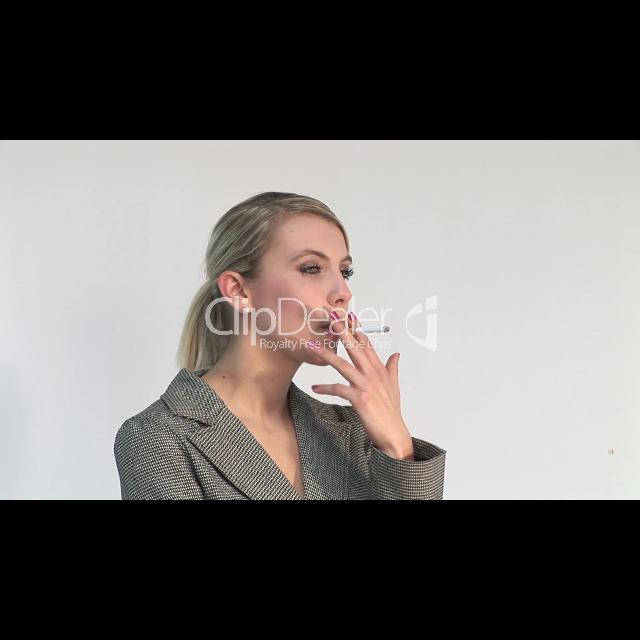rokok: (353, 322, 392, 340)
